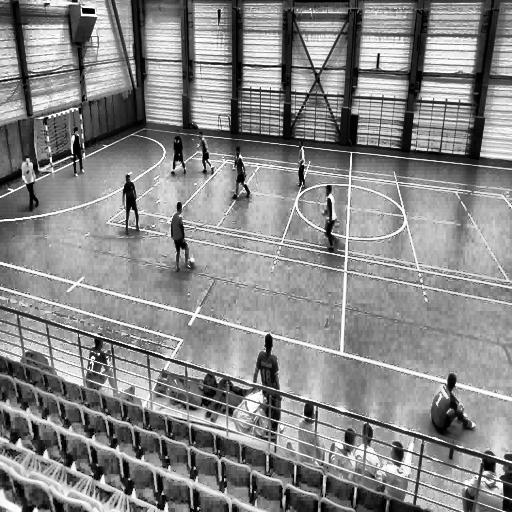ball: (188, 256, 196, 270)
player: (171, 200, 191, 271), (322, 184, 338, 254), (20, 155, 40, 211), (231, 146, 250, 200), (123, 174, 140, 234), (170, 130, 187, 176), (198, 129, 214, 176), (70, 126, 84, 178), (295, 139, 306, 190)
